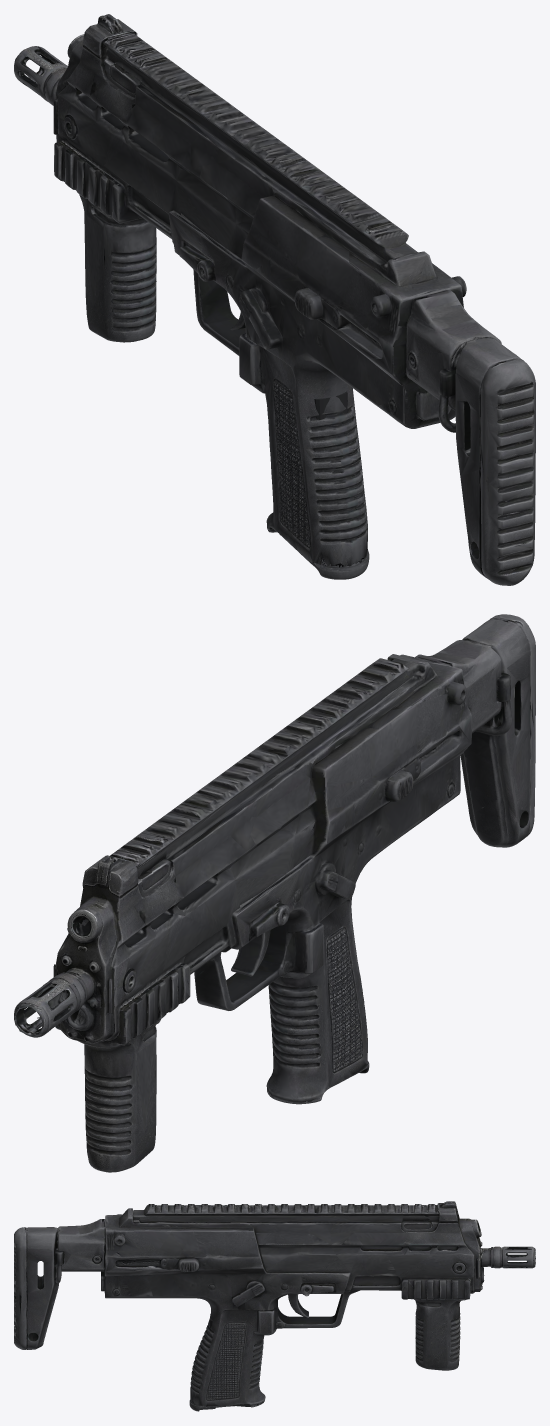
3 views of the same model, one above another, from view 1: azimuth 30°, elevation 25°; view 2: azimuth 150°, elevation 25°; view 3: azimuth 270°, elevation 25° (orthographic). The views are drawn at different scales.
Parts seen in each view (by area): view 1: Body, Magazine; view 2: Body; view 3: Body, Magazine.
Boxes of the visible parts, bbox=[...] form: Body: bbox=[14, 14, 535, 585]; Magazine: bbox=[267, 391, 369, 579]; Body: bbox=[14, 614, 535, 1172]; Body: bbox=[14, 1201, 535, 1406]; Magazine: bbox=[189, 1313, 263, 1411].
Size of the model in its own units: 0.0673 by 0.2315 by 0.535.
5 materials, 1 textured.
